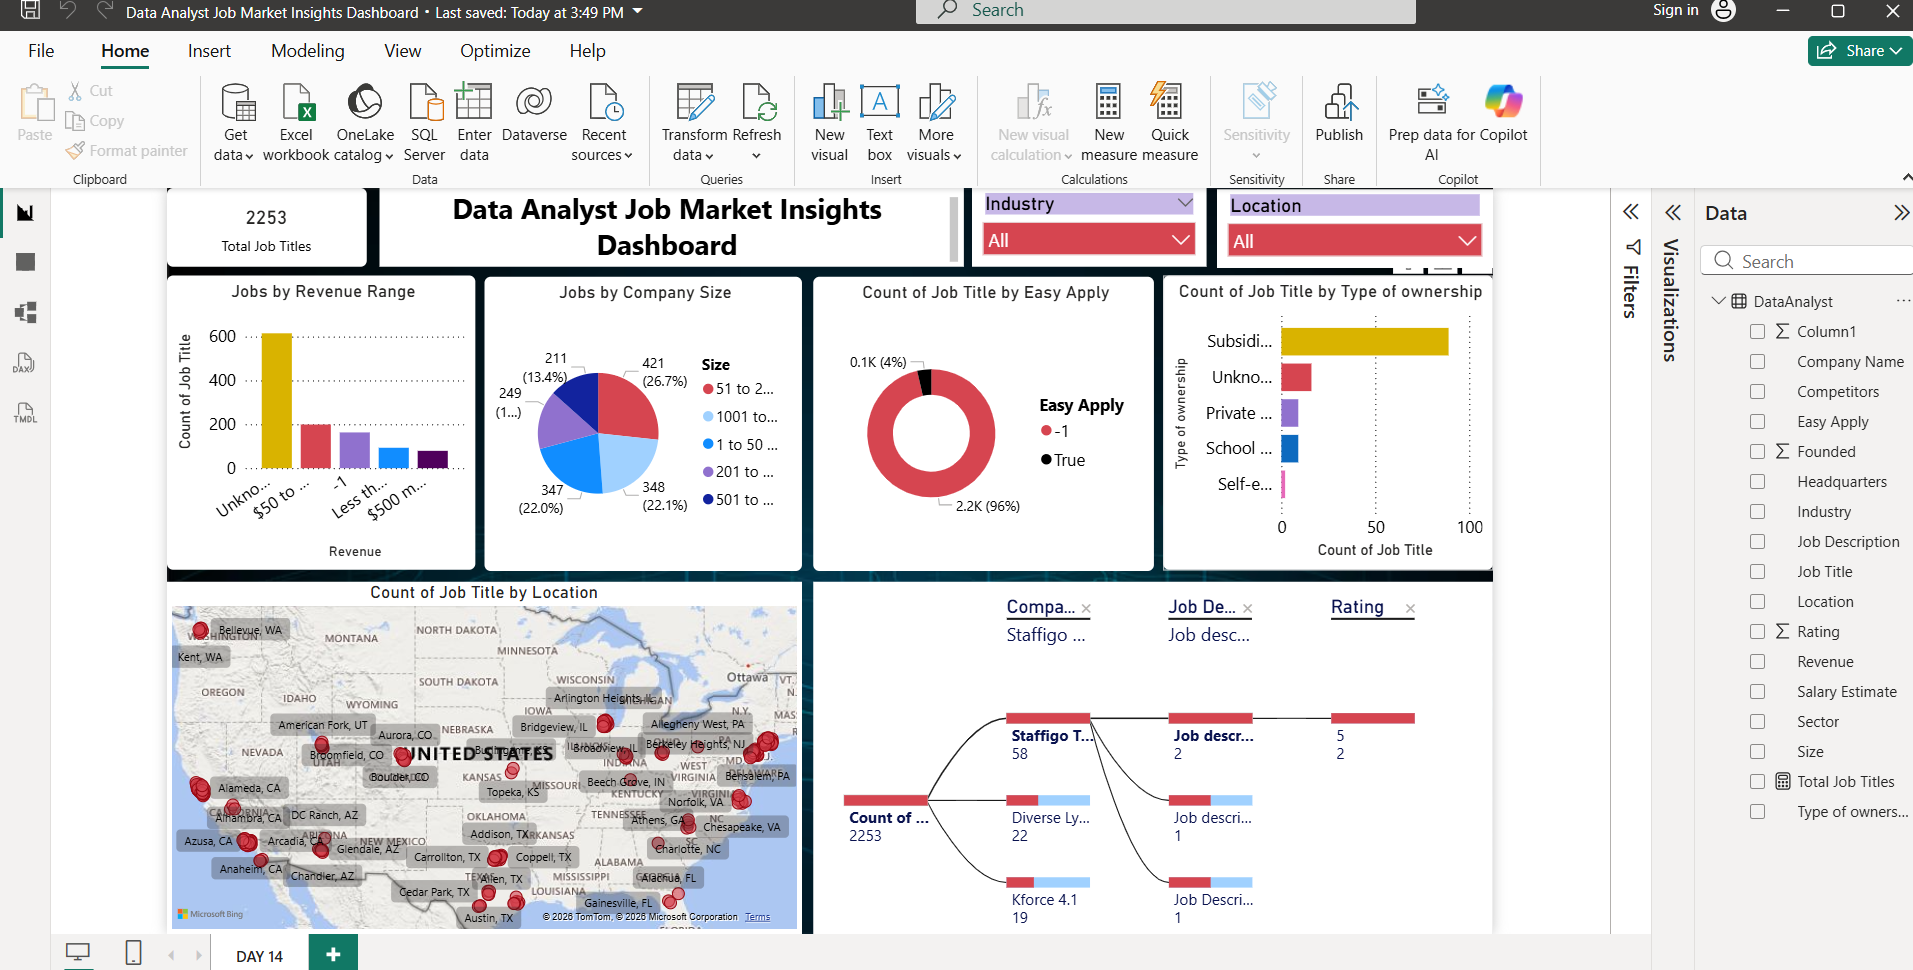

Layout of this report page (visuals, bound fields, positions):
{"tool":"powerbi","page":{"name":"DAY 14","canvas":[1280,720],"ordinal":0},"visuals":[{"type":"card","fields":{"Values":["DataAnalyst.Total Job Titles"]},"box":[0,0,192.5,76.2],"z":0},{"type":"map","fields":{"Category":["DataAnalyst.Location"],"Y":["CountNonNull(DataAnalyst.Job Title)"]},"box":[0,380,612.5,340],"z":1000},{"type":"pieChart","title":"Jobs by Company Size","fields":{"Category":["DataAnalyst.Size"],"Y":["CountNonNull(DataAnalyst.Job Title)"]},"box":[306.2,86.2,306.2,283.8],"z":2000},{"type":"donutChart","fields":{"Category":["DataAnalyst.Easy Apply"],"Y":["CountNonNull(DataAnalyst.Job Title)"]},"box":[623.8,86.2,328.8,283.8],"z":3000},{"type":"columnChart","title":"Jobs by Revenue Range","fields":{"Category":["DataAnalyst.Revenue"],"Y":["CountNonNull(DataAnalyst.Job Title)"]},"box":[0,85,297.5,283.8],"z":4000},{"type":"clusteredBarChart","fields":{"Category":["DataAnalyst.Type of ownership"],"Y":["CountNonNull(DataAnalyst.Job Title)"]},"box":[961.2,85,318.8,283.8],"z":5000},{"type":"decompositionTreeVisual","fields":{"Analyze":["CountNonNull(DataAnalyst.Job Title)"],"ExplainBy":["DataAnalyst.Company Name","DataAnalyst.Job Description","DataAnalyst.Rating"]},"box":[623.8,380,656.2,340],"z":6000},{"type":"slicer","fields":{"Values":["DataAnalyst.Industry"]},"box":[777.5,0,226.2,76.2],"z":7000},{"type":"slicer","fields":{"Values":["DataAnalyst.Location"]},"box":[1013.8,1.2,266.2,76.2],"z":8000},{"type":"textbox","box":[205,0,563.8,76.2],"z":9000}]}

Visuals, with their boxes on the page's 1280x720 design canvas (x1, y1, x2, y2). These are canvas units, not pixel positions in the 1913x970 screenshot, which may show the page scaled, cropped or inside an application window:
card - DataAnalyst.Total Job Titles: region(0, 0, 192, 76)
map - DataAnalyst.Location x CountNonNull(DataAnalyst.Job Title): region(0, 380, 612, 720)
"Jobs by Company Size" pieChart: region(306, 86, 612, 370)
donutChart - DataAnalyst.Easy Apply x CountNonNull(DataAnalyst.Job Title): region(624, 86, 953, 370)
"Jobs by Revenue Range" columnChart: region(0, 85, 298, 369)
clusteredBarChart - DataAnalyst.Type of ownership x CountNonNull(DataAnalyst.Job Title): region(961, 85, 1280, 369)
decompositionTreeVisual - CountNonNull(DataAnalyst.Job Title) x DataAnalyst.Company Name: region(624, 380, 1280, 720)
slicer - DataAnalyst.Industry: region(778, 0, 1004, 76)
slicer - DataAnalyst.Location: region(1014, 1, 1280, 77)
textbox: region(205, 0, 769, 76)
